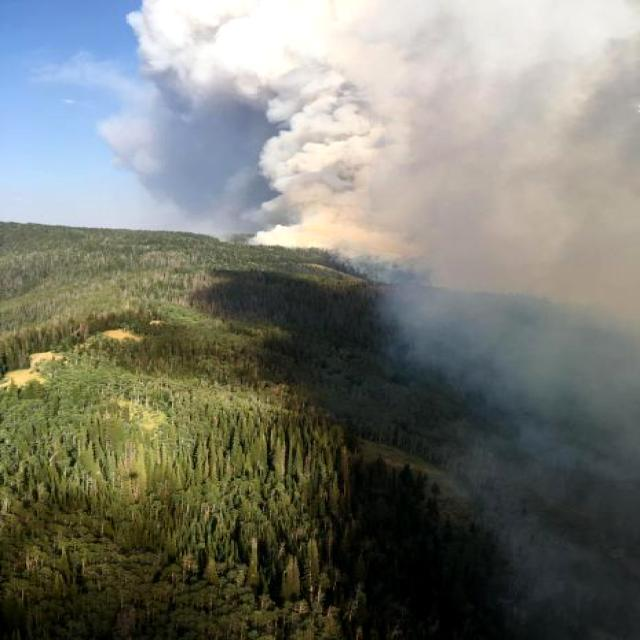Smoke: (125, 17, 640, 514)
